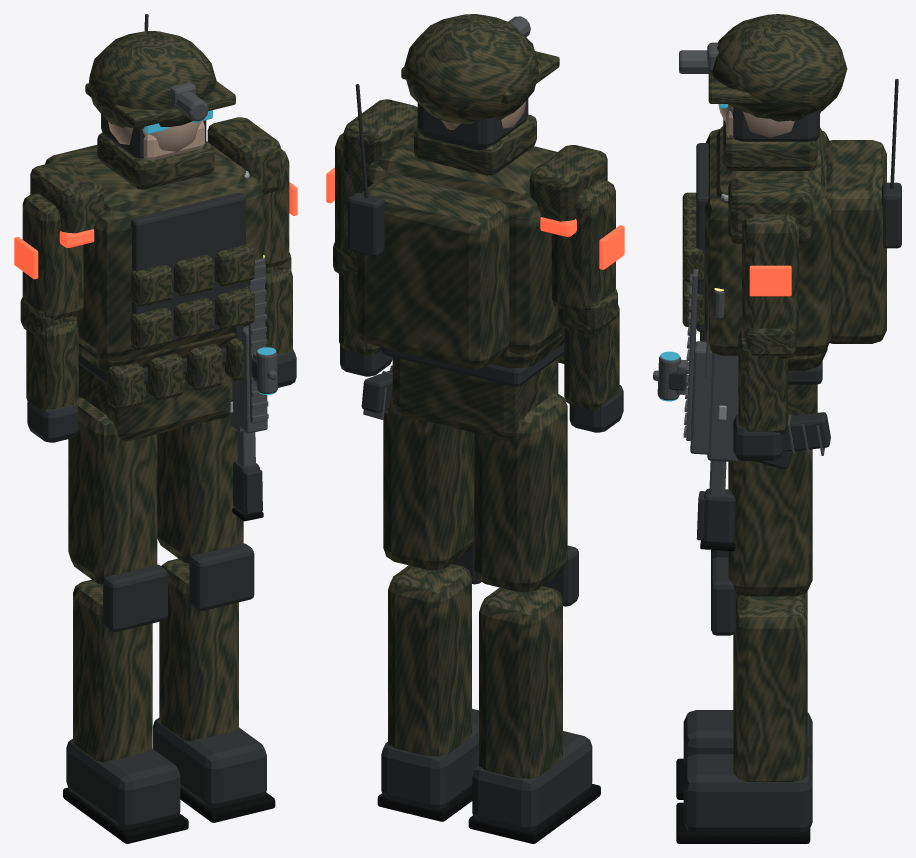
The model's file is soldier_enemy.glb.
The picture shows the model from 3 angles, left to right: view 1: azimuth 30°, elevation 25°; view 2: azimuth 150°, elevation 25°; view 3: azimuth 270°, elevation 25°; orthographic projection. The views are drawn at different scales.
Parts seen in each view (by area): view 1: Thigh, Shin, Shin.001, Thigh.001, PlateCarrier, Helmet, FrontPlate, Boot, Boot.001, UpperArm, Pelvis, Chest (+37 smaller); view 2: Backpack, Thigh, Shin.001, Shin, Thigh.001, Helmet, Pelvis, PlateCarrier, Boot, UpperArm, Chest, Boot.001 (+18 smaller); view 3: Shin.001, Backpack, Thigh.001, Helmet, PlateCarrier, Boot.001, UpperArm.001, ShoulderR, Forearm.001, Collar, Receiver_Lower, Boot (+22 smaller).
Part boxes in pixels (x1=…): Thigh: x1=68, y1=397, x2=157, y2=584; Shin: x1=73, y1=579, x2=152, y2=762; Shin.001: x1=159, y1=558, x2=238, y2=741; Thigh.001: x1=157, y1=413, x2=243, y2=563; PlateCarrier: x1=77, y1=176, x2=263, y2=361; Helmet: x1=88, y1=31, x2=216, y2=128; FrontPlate: x1=130, y1=192, x2=245, y2=350; Boot: x1=66, y1=739, x2=180, y2=829; Boot.001: x1=153, y1=718, x2=266, y2=807; UpperArm: x1=22, y1=193, x2=83, y2=320; Pelvis: x1=78, y1=364, x2=232, y2=441; Chest: x1=78, y1=145, x2=245, y2=371; Backpack: x1=357, y1=174, x2=509, y2=368; Thigh: x1=474, y1=393, x2=567, y2=592; Shin.001: x1=388, y1=564, x2=471, y2=756; Shin: x1=479, y1=586, x2=562, y2=778; Thigh.001: x1=383, y1=389, x2=474, y2=570; Helmet: x1=404, y1=14, x2=538, y2=124; Pelvis: x1=392, y1=357, x2=558, y2=440; PlateCarrier: x1=366, y1=160, x2=564, y2=354; Boot: x1=472, y1=731, x2=592, y2=832; UpperArm: x1=551, y1=179, x2=615, y2=312; Chest: x1=378, y1=129, x2=564, y2=368; Boot.001: x1=381, y1=708, x2=478, y2=810; Shin.001: x1=733, y1=595, x2=807, y2=781; Backpack: x1=826, y1=140, x2=886, y2=343; Thigh.001: x1=728, y1=449, x2=812, y2=596; Helmet: x1=711, y1=14, x2=847, y2=121; PlateCarrier: x1=705, y1=129, x2=831, y2=355; Boot.001: x1=683, y1=754, x2=812, y2=832; UpperArm.001: x1=742, y1=214, x2=798, y2=331; ShoulderR: x1=728, y1=177, x2=812, y2=243; Forearm.001: x1=738, y1=329, x2=787, y2=434; Collar: x1=723, y1=119, x2=817, y2=170; Receiver_Lower: x1=707, y1=352, x2=738, y2=462; Boot: x1=683, y1=710, x2=812, y2=765.
Size of the model in its own units: 0.642 by 1.75 by 0.5021.
10 materials, 3 textured.
